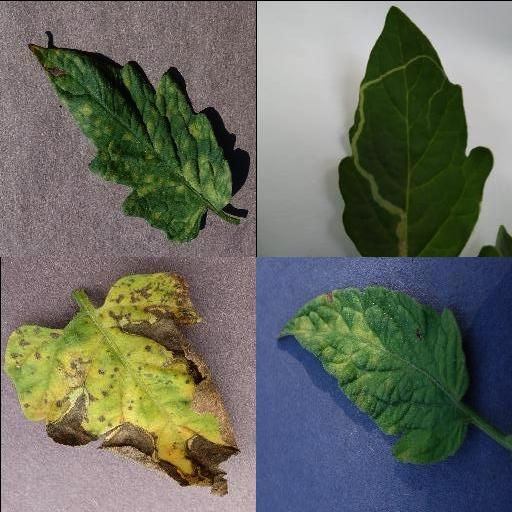Leaf Miner: (336, 5, 496, 256)
Leaf Mold: (27, 41, 229, 241), (273, 284, 471, 463)
Septoria: (1, 270, 237, 494)
